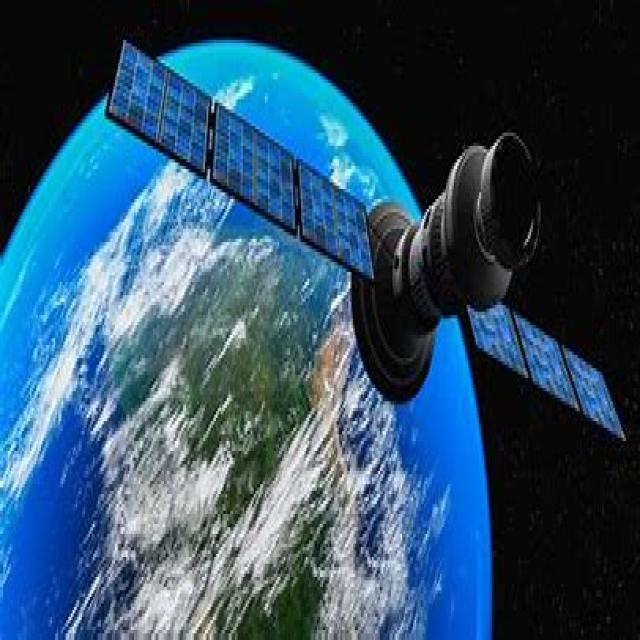satellite: (93, 0, 640, 464)
